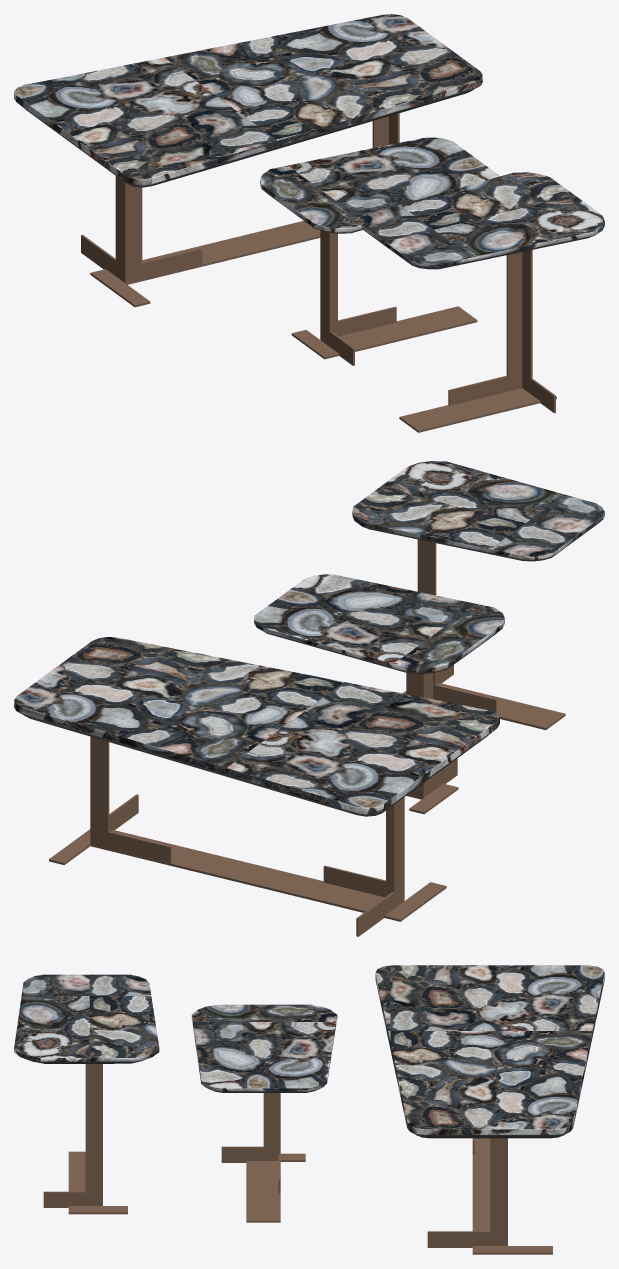
File: SBH_Surefooted.glb
3 renders of one model, top to bottom at view 1: azimuth 30°, elevation 25°; view 2: azimuth 150°, elevation 25°; view 3: azimuth 270°, elevation 25°, orthographic. The views are drawn at different scales.
Visible parts, largest first — view 1: Surefooted; view 2: Surefooted; view 3: Surefooted.
Boxes of the visible parts, x1,y1,x2,y2 form: Surefooted: (14,14,604,432); Surefooted: (14,461,604,936); Surefooted: (14,965,604,1254).
Size of the model in its own units: 1.14 by 0.5507 by 1.74.
3 materials, 1 textured.
